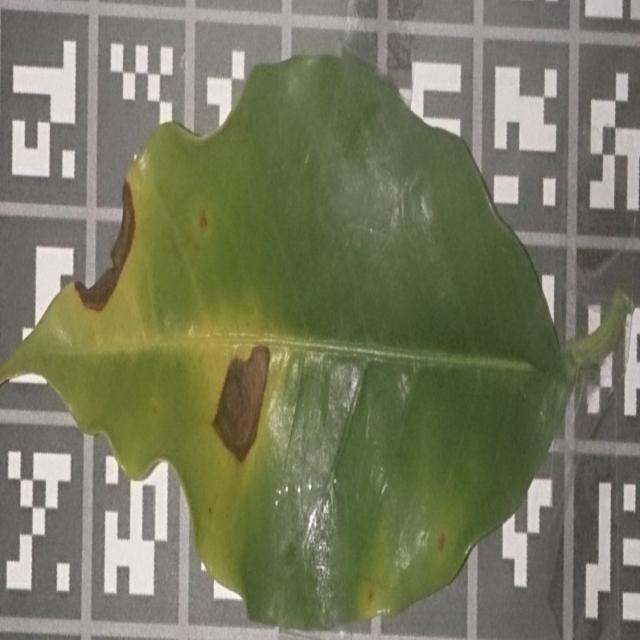Enfermedad-Mancha-de-hierro: (0, 55, 589, 633)
